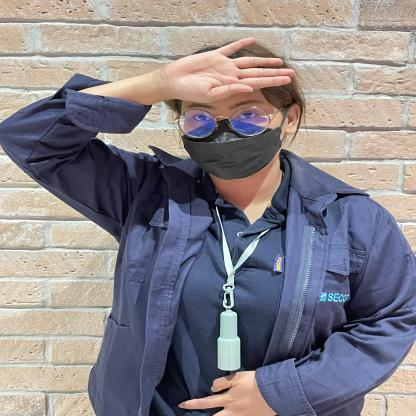Sick: (118, 14, 307, 107)
